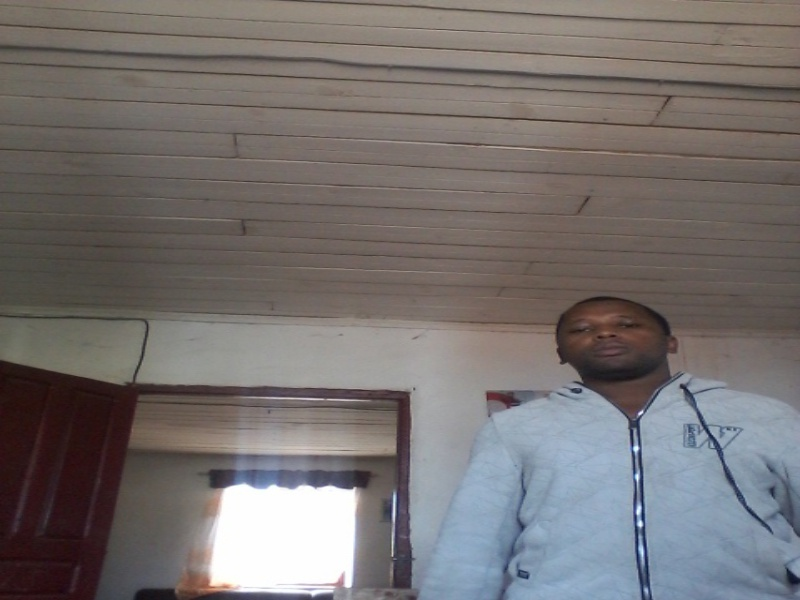TsisyArotava: (546, 284, 687, 399)
